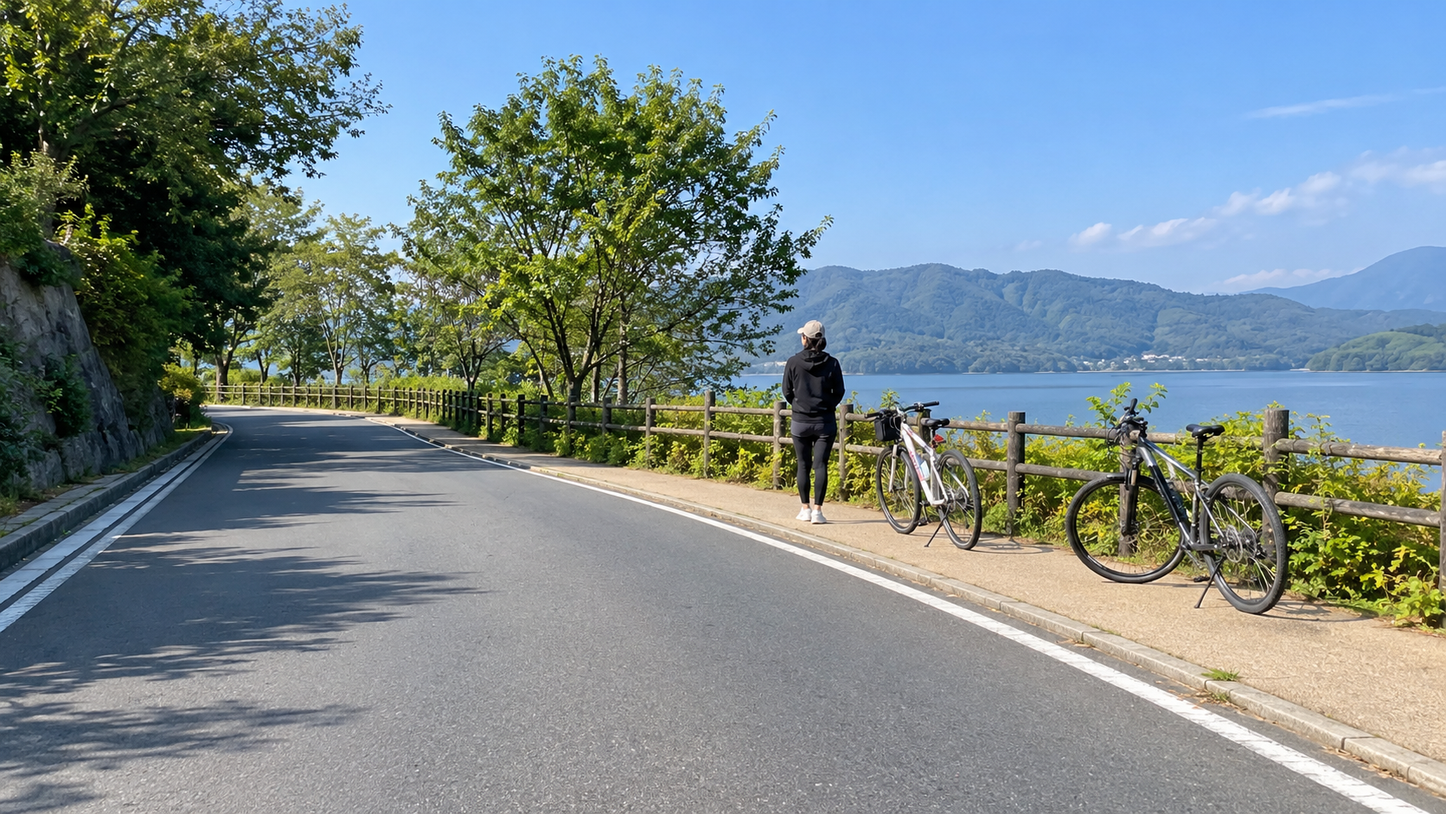bicycle: (1068, 401, 1287, 594), (868, 403, 993, 550)
person: (790, 321, 844, 526)
